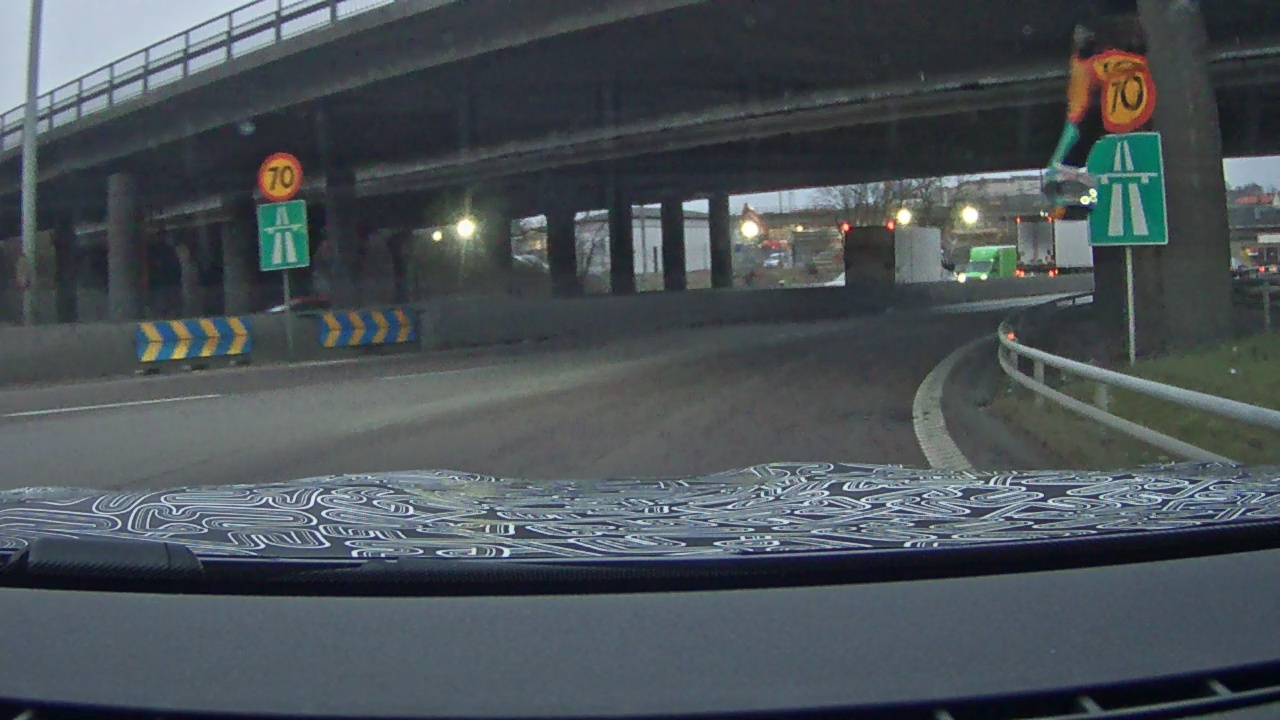Motorway_Begin: (255, 201, 310, 273)
